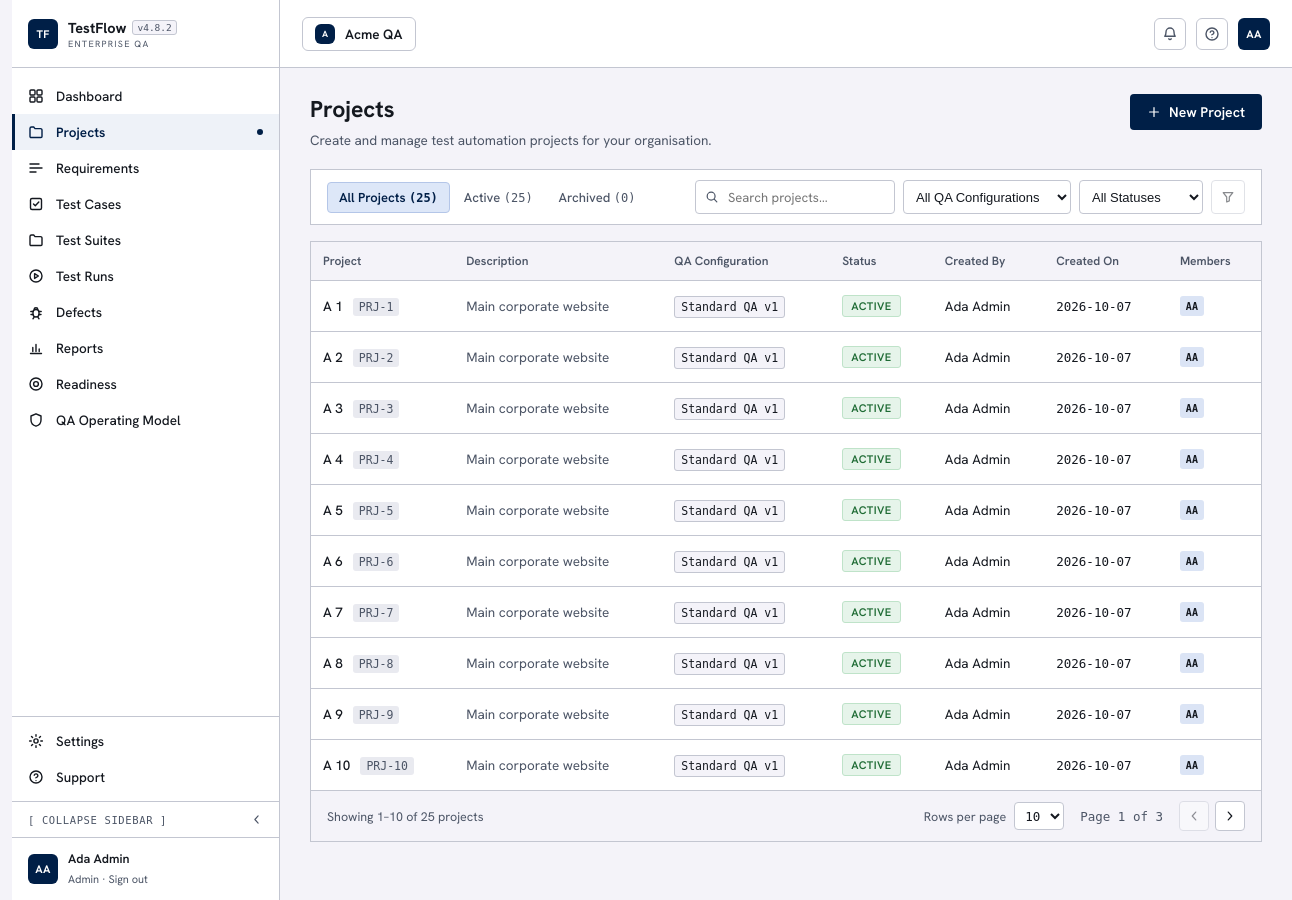
Test: Projects page › Projects — List: pagination › on the last page Next is disabled and the range is correct
The image size is (1292, 900).
Check: the text "A 1" is shown, box left=323, top=297, right=343, bottom=315
Click the button named "Next page" at (1230, 816), box left=1215, top=801, right=1245, bottom=831
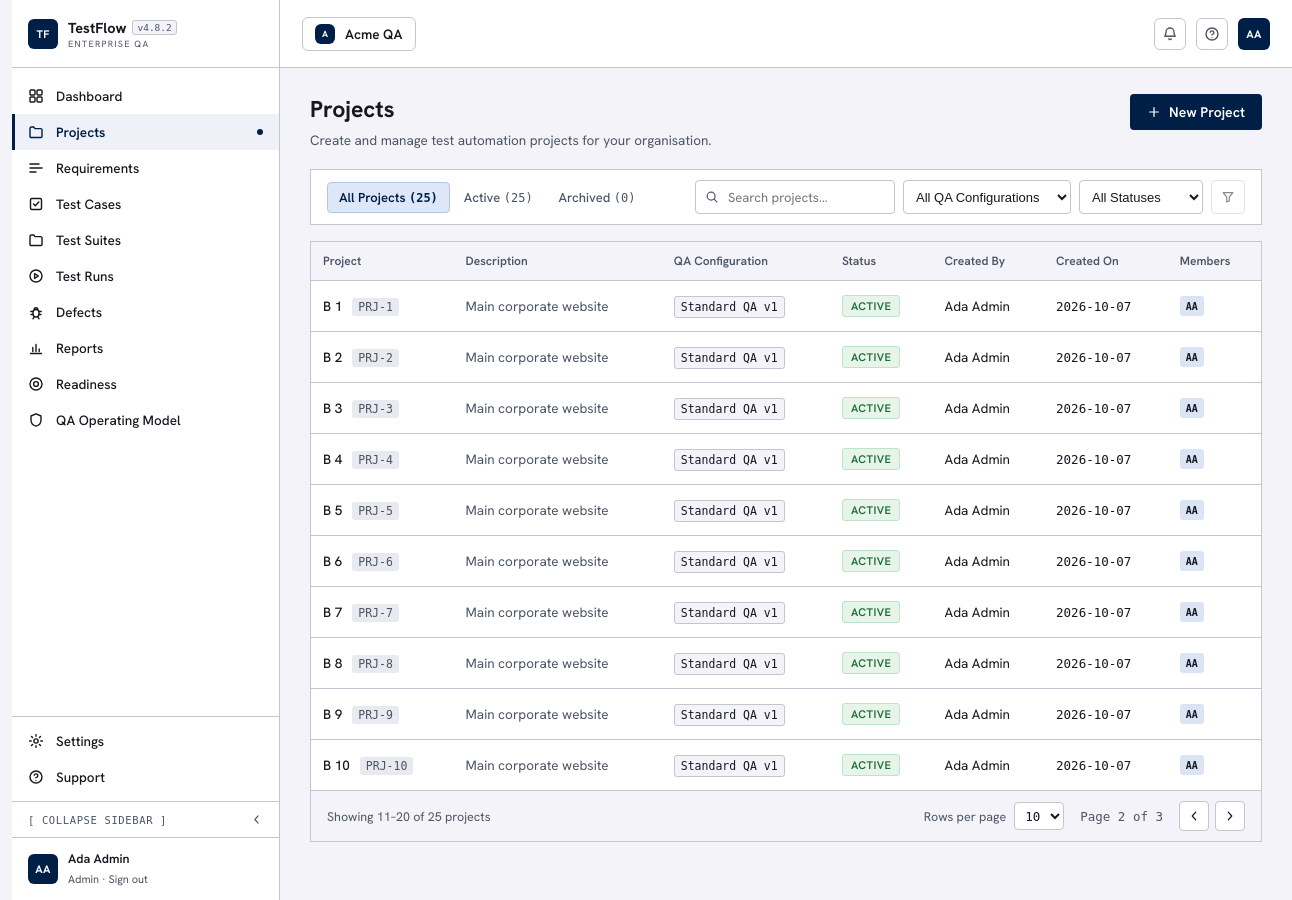
Check: the text "B 1" is shown, box left=323, top=297, right=342, bottom=315
Click the button named "Next page" at (1230, 816), box left=1215, top=801, right=1245, bottom=831
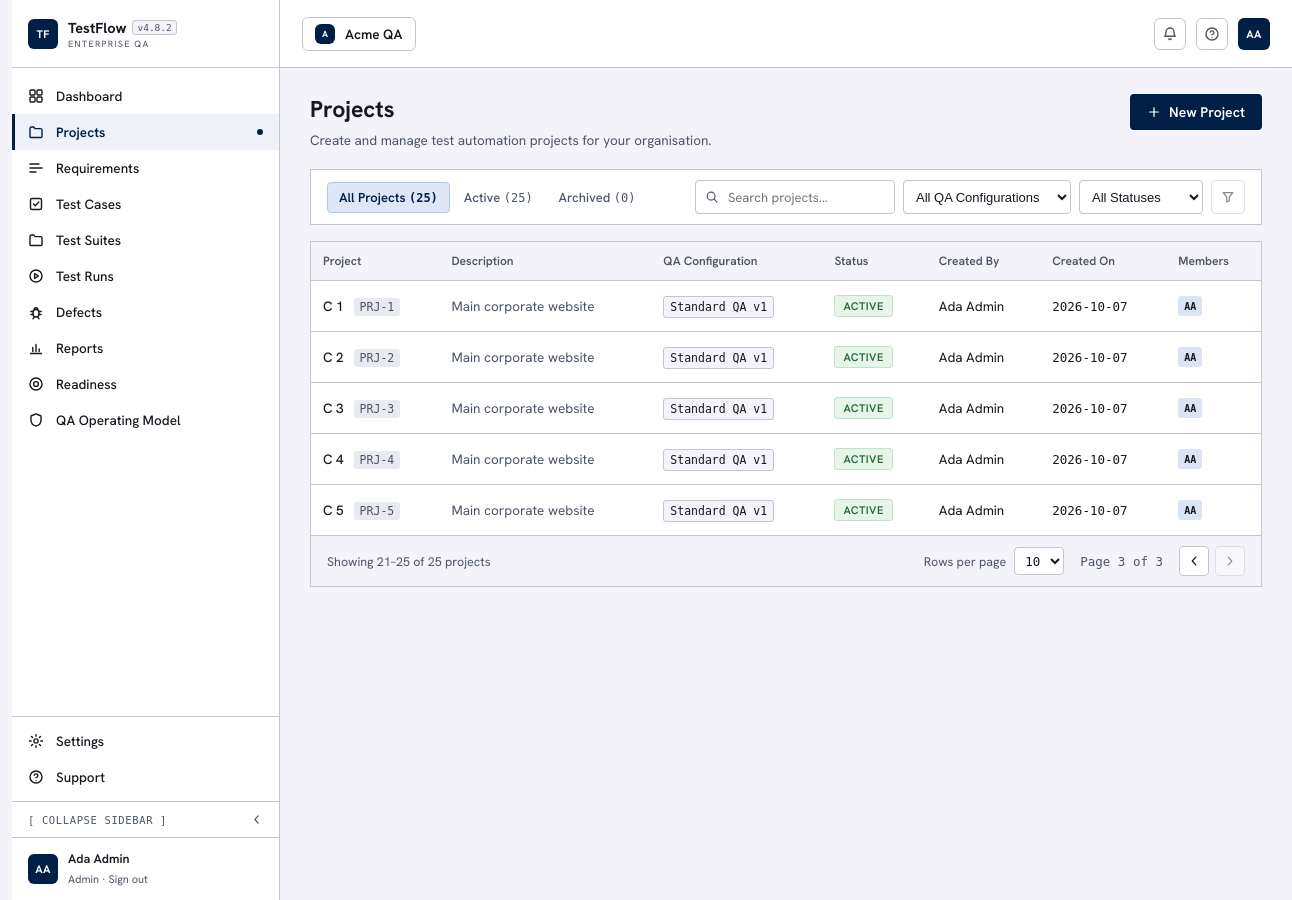
Check: the text "C 1" is shown, box left=323, top=297, right=344, bottom=315
Check: the text "Showing 21–25 of 25 projects" is shown, box left=327, top=552, right=490, bottom=570
Check: the text "Page 3 of 3" is shown, box left=1080, top=554, right=1163, bottom=568
